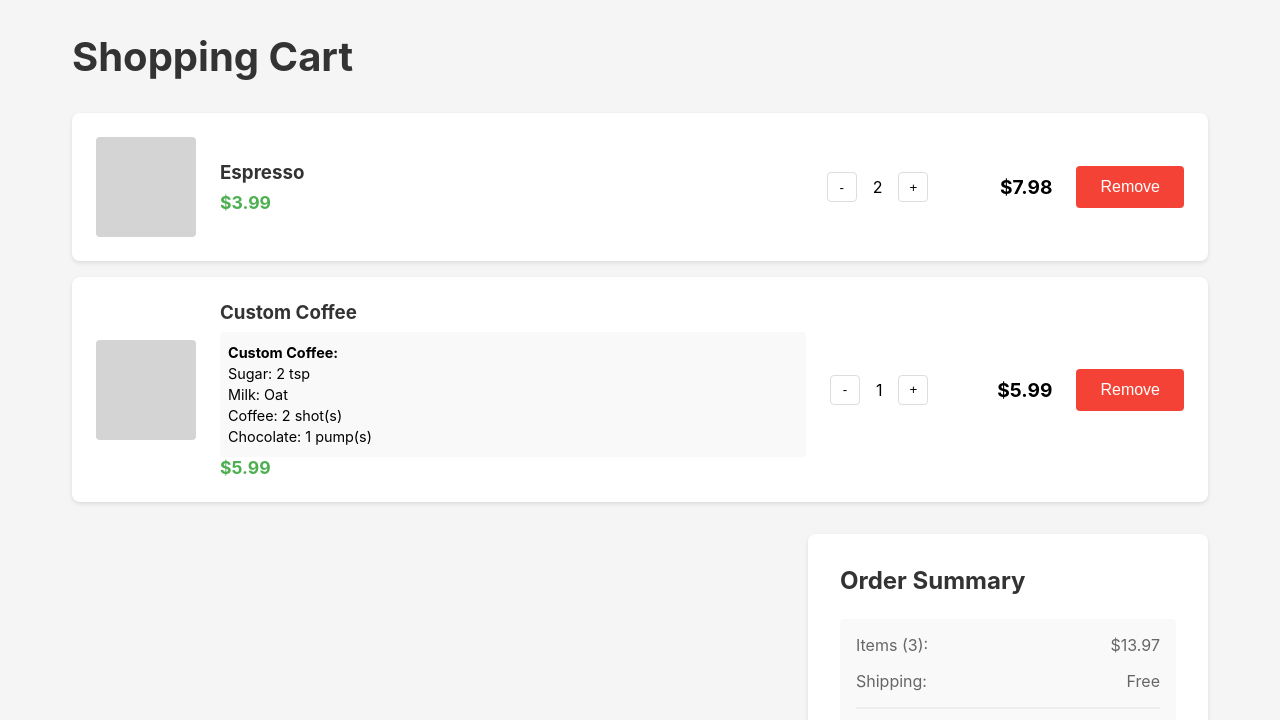
Scenario: Cart Page › increments item quantity
Expected: the heading "Espresso" is shown, x1=220 y1=161 x2=304 y2=184
Click the button "+" next to "7.98" at (913, 187), box x1=898 y1=172 x2=928 y2=202
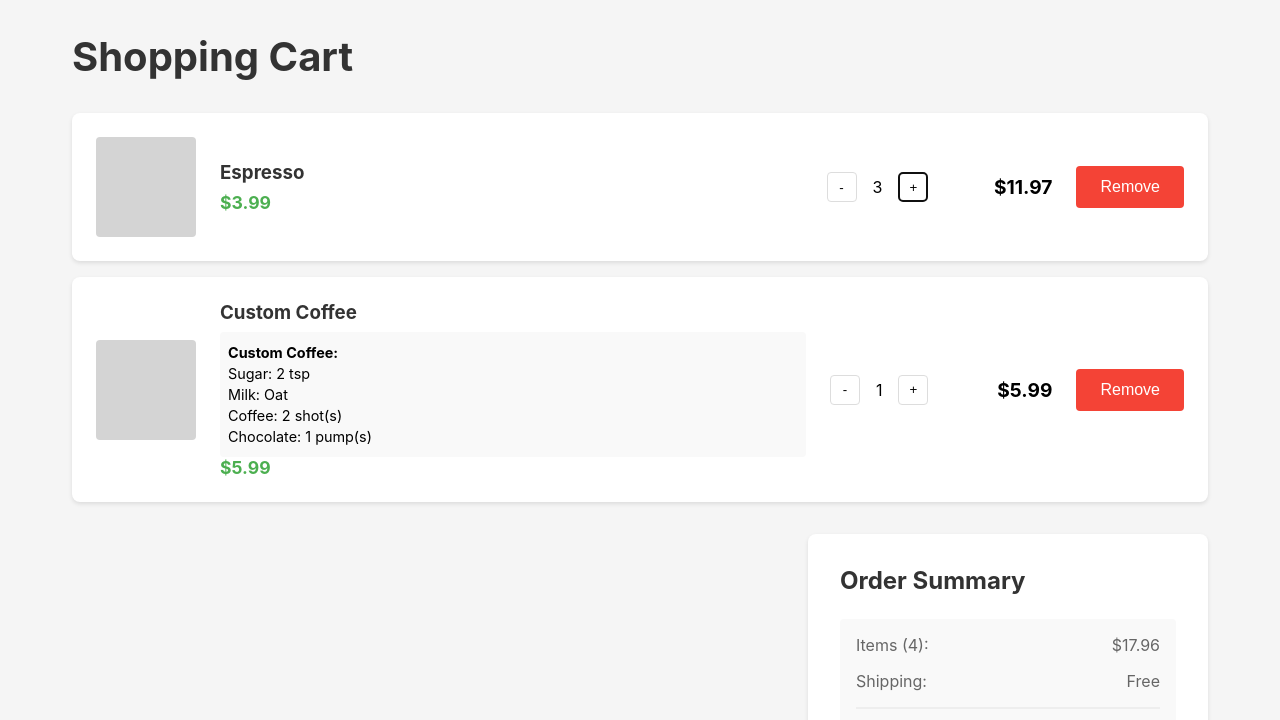
Result: the text "$17.96" is shown at x1=1112 y1=635 x2=1160 y2=655
